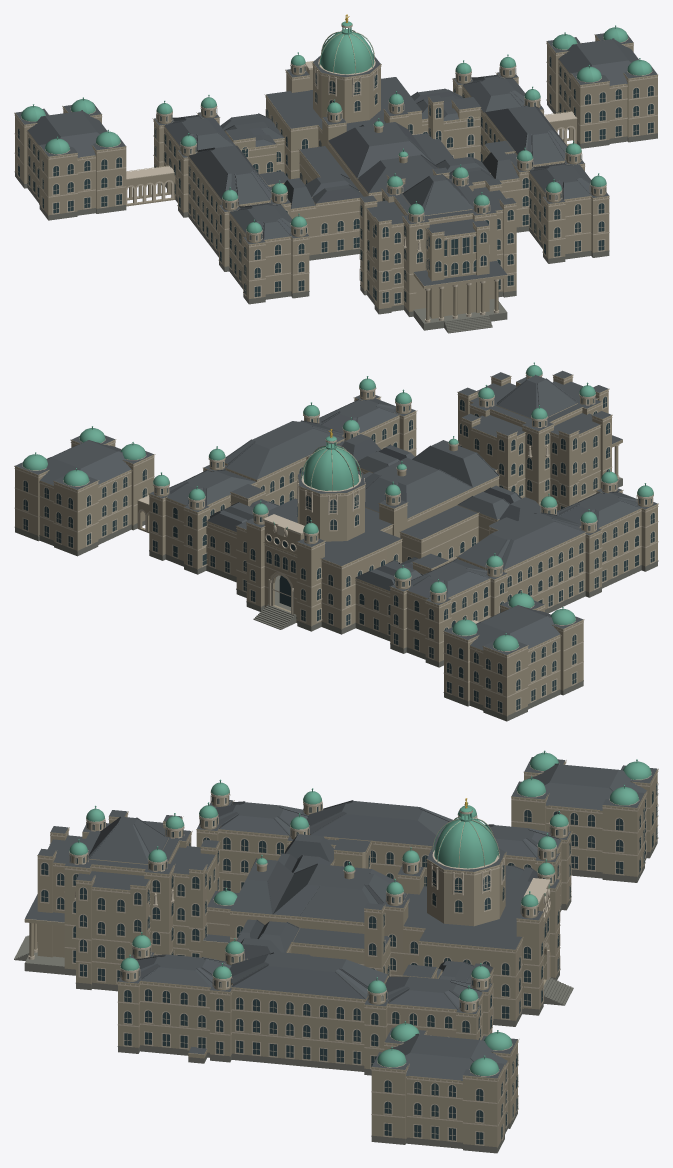
The model's file is bc-parliament-buildings-near.glb.
The picture shows the model from 3 angles, top to bottom: view 1: azimuth 30°, elevation 25°; view 2: azimuth 150°, elevation 25°; view 3: azimuth 270°, elevation 25°; orthographic projection. The views are drawn at different scales.
Parts seen in each view (by area): view 1: bc-parliament-buildings-0-stone, bc-parliament-buildings-0-roof, bc-parliament-buildings-0-trim, bc-parliament-buildings-0-glass, bc-parliament-buildings-0-copper, bc-parliament-buildings-0-foundation, bc-parliament-buildings-0-light; view 2: bc-parliament-buildings-0-stone, bc-parliament-buildings-0-roof, bc-parliament-buildings-0-trim, bc-parliament-buildings-0-glass, bc-parliament-buildings-0-copper, bc-parliament-buildings-0-foundation, bc-parliament-buildings-0-light; view 3: bc-parliament-buildings-0-stone, bc-parliament-buildings-0-roof, bc-parliament-buildings-0-trim, bc-parliament-buildings-0-glass, bc-parliament-buildings-0-copper, bc-parliament-buildings-0-foundation, bc-parliament-buildings-0-light.
Part boxes in pixels (x1,y1,x2,y2): bc-parliament-buildings-0-stone: (15, 35, 657, 320); bc-parliament-buildings-0-roof: (15, 33, 657, 285); bc-parliament-buildings-0-trim: (14, 24, 657, 322); bc-parliament-buildings-0-glass: (18, 56, 653, 303); bc-parliament-buildings-0-copper: (21, 21, 652, 233); bc-parliament-buildings-0-foundation: (14, 99, 657, 333); bc-parliament-buildings-0-light: (14, 30, 657, 244); bc-parliament-buildings-0-stone: (15, 375, 657, 716); bc-parliament-buildings-0-roof: (15, 370, 657, 654); bc-parliament-buildings-0-trim: (14, 372, 658, 714); bc-parliament-buildings-0-glass: (23, 376, 654, 712); bc-parliament-buildings-0-copper: (22, 362, 653, 651); bc-parliament-buildings-0-foundation: (14, 477, 658, 721); bc-parliament-buildings-0-light: (14, 374, 658, 655); bc-parliament-buildings-0-stone: (24, 761, 657, 1147); bc-parliament-buildings-0-roof: (25, 757, 656, 1080); bc-parliament-buildings-0-trim: (28, 762, 658, 1145); bc-parliament-buildings-0-glass: (41, 783, 657, 1144); bc-parliament-buildings-0-copper: (69, 750, 651, 1075); bc-parliament-buildings-0-foundation: (14, 838, 657, 1153); bc-parliament-buildings-0-light: (37, 760, 658, 1081).
Bounding box in the file's own units: 153 × 41.6 × 129.
